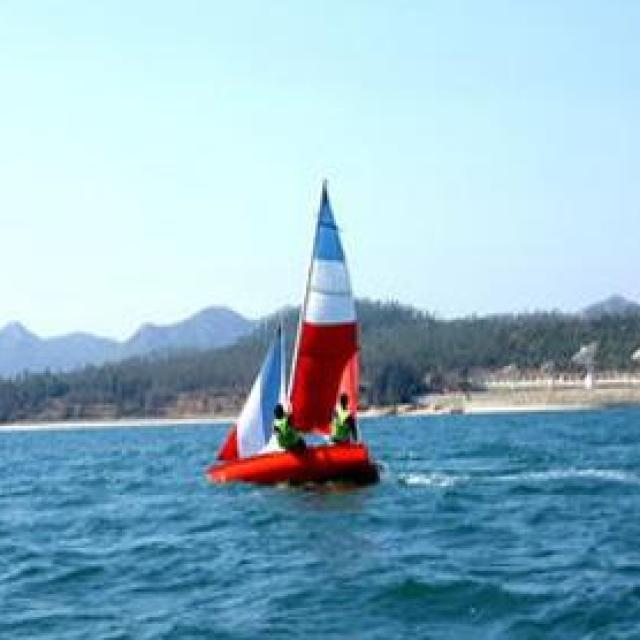sailboat: (202, 170, 382, 482)
